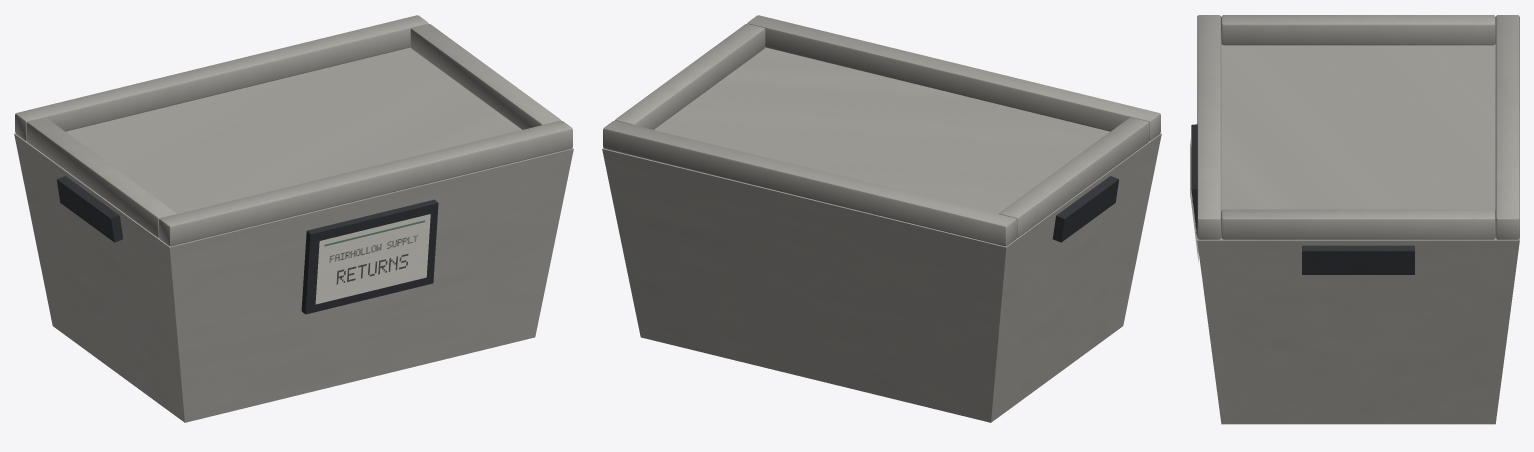
Rendered from storage_tote_stone.glb.
3 views of the same model, side by side, from view 1: azimuth 30°, elevation 25°; view 2: azimuth 150°, elevation 25°; view 3: azimuth 270°, elevation 25° (orthographic). The views are drawn at different scales.
Visible parts, largest first — view 1: Tote_Body, Rim_F, Rim_B, Label_Card, Rim_L, Rim_R, Label_Holder, Grip_L; view 2: Tote_Body, Rim_B, Rim_F, Rim_L, Rim_R, Grip_L; view 3: Tote_Body, Rim_R, Rim_L, Rim_B, Rim_F, Grip_R, Label_Holder.
Boxes of the visible parts, box(x1,y1,x2,y2) form: Tote_Body: box(14, 47, 573, 422); Rim_F: box(159, 120, 572, 246); Rim_B: box(15, 15, 428, 140); Label_Card: box(315, 214, 430, 304); Rim_L: box(26, 117, 176, 237); Rim_R: box(410, 24, 560, 129); Label_Holder: box(301, 199, 438, 314); Grip_L: box(57, 176, 123, 242); Tote_Body: box(602, 47, 1161, 422); Rim_B: box(603, 120, 1016, 246); Rim_F: box(747, 15, 1160, 140); Rim_L: box(999, 117, 1149, 237); Rim_R: box(615, 24, 765, 129); Grip_L: box(1052, 176, 1118, 242); Tote_Body: box(1197, 43, 1519, 424); Rim_R: box(1221, 209, 1495, 239); Rim_L: box(1221, 15, 1495, 45); Rim_B: box(1495, 15, 1519, 239); Rim_F: box(1197, 15, 1221, 239); Grip_R: box(1302, 245, 1414, 274); Label_Holder: box(1191, 124, 1197, 236).
Bounding box in the file's own units: 0.6235 × 0.3 × 0.4088.
4 materials, 3 textured.
